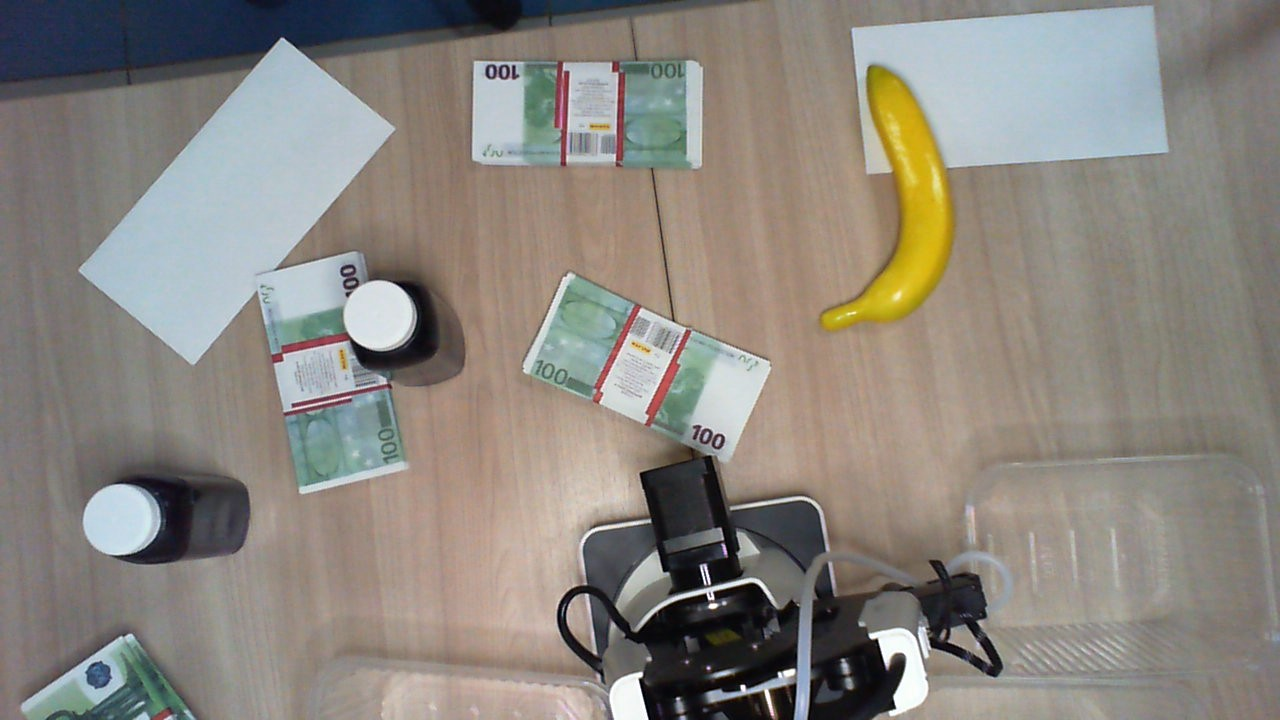banana: (818, 55, 953, 345)
bottle: (76, 475, 197, 568), (347, 278, 435, 371)
convert: (78, 37, 393, 369), (844, 1, 1169, 183)
money: (517, 274, 771, 455), (243, 249, 413, 487), (468, 60, 706, 175), (18, 629, 201, 720)
